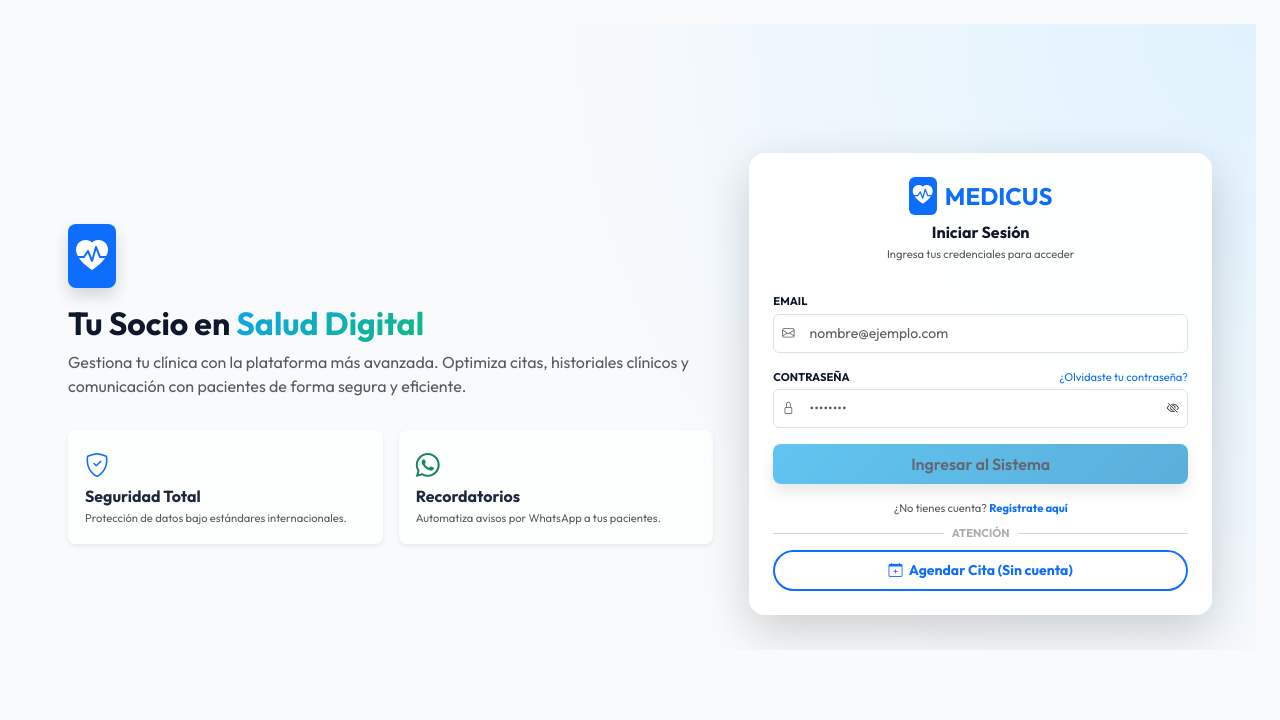
Scenario: Authentication Flow › should navigate to register page
Click the link "Regístrate aquí". click: x=1028, y=509
box: 989,502 -> 1067,516
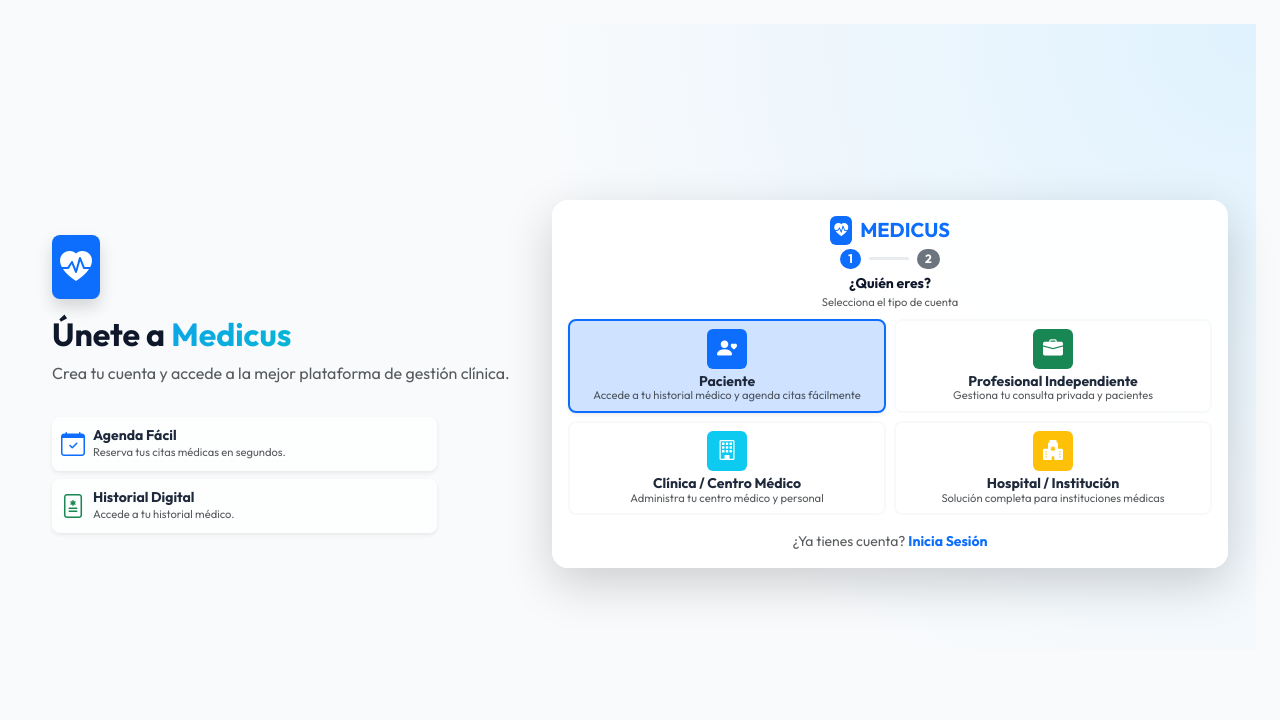
Result: the text "¿Quién eres?" is shown at 849,274 -> 931,292
